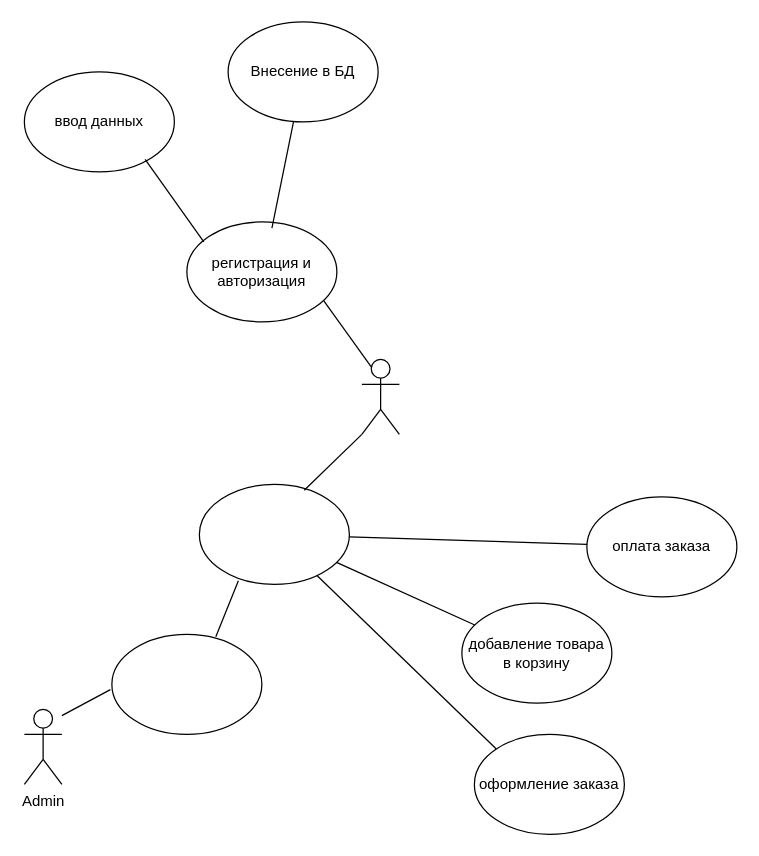
This 759x856 diagram has some shape labels left out. The centre of each missing label's shape, as x and y in pixels:
User: the point at 380,396
просмотр каталога: the point at 273,533
редактирование каталога: the point at 186,683
